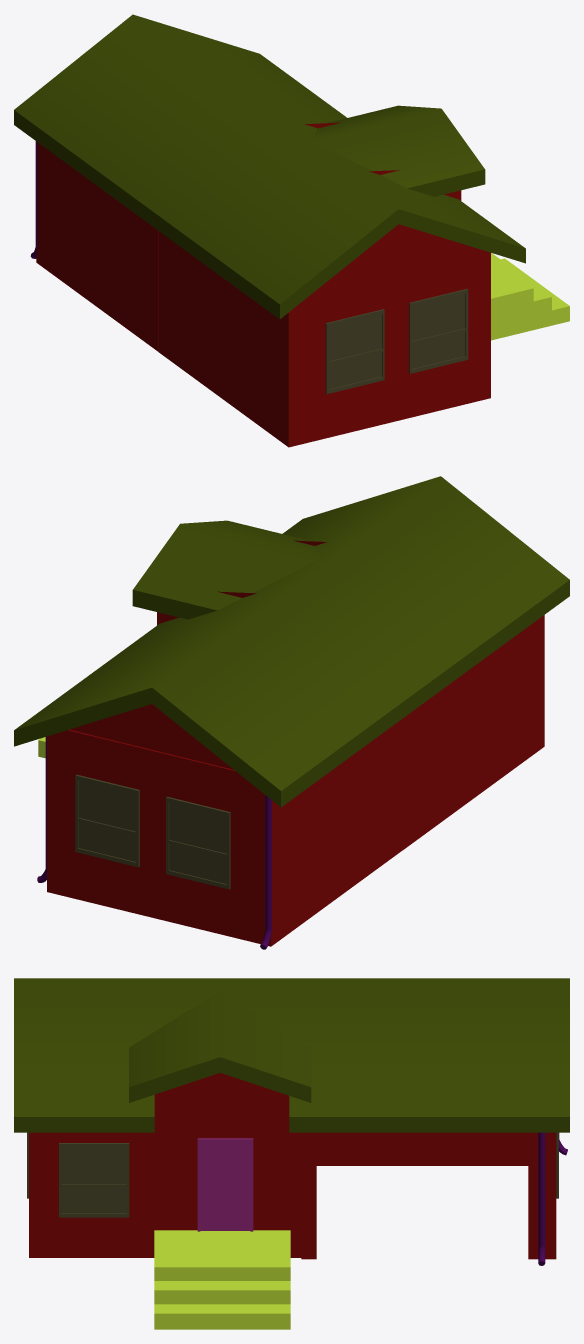
The model's file is ART_MOD_A_Bungalow_001.FBX.
The picture shows the model from 3 angles, top to bottom: view 1: azimuth 30°, elevation 25°; view 2: azimuth 150°, elevation 25°; view 3: azimuth 270°, elevation 25°; orthographic projection. The views are drawn at different scales.
Parts seen in each view (by area): view 1: Box008; view 2: Box008; view 3: Box008.
Boxes of the visible parts, bbox=[...] form: Box008: bbox=[14, 14, 569, 447]; Box008: bbox=[14, 476, 569, 949]; Box008: bbox=[14, 978, 569, 1329].
Bounding box in the file's own units: 644 × 378 × 830.
